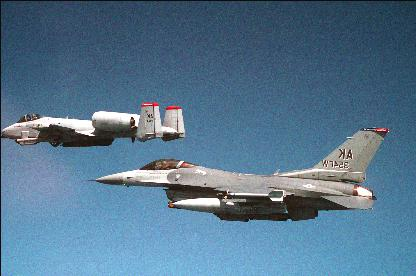A10: (1, 101, 185, 146)
F14: (85, 124, 389, 222)
